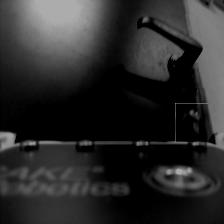Door Handle: (138, 14, 206, 88)
Lock: (175, 103, 208, 142)
